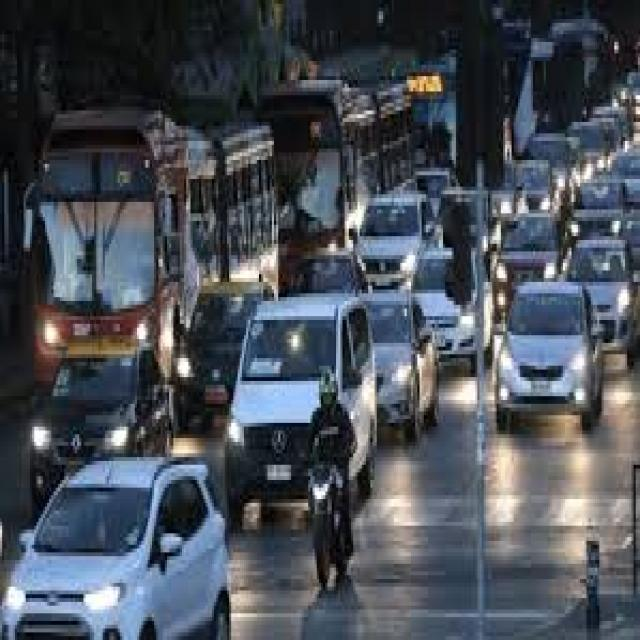AB: (19, 96, 285, 412), (270, 64, 415, 290)
